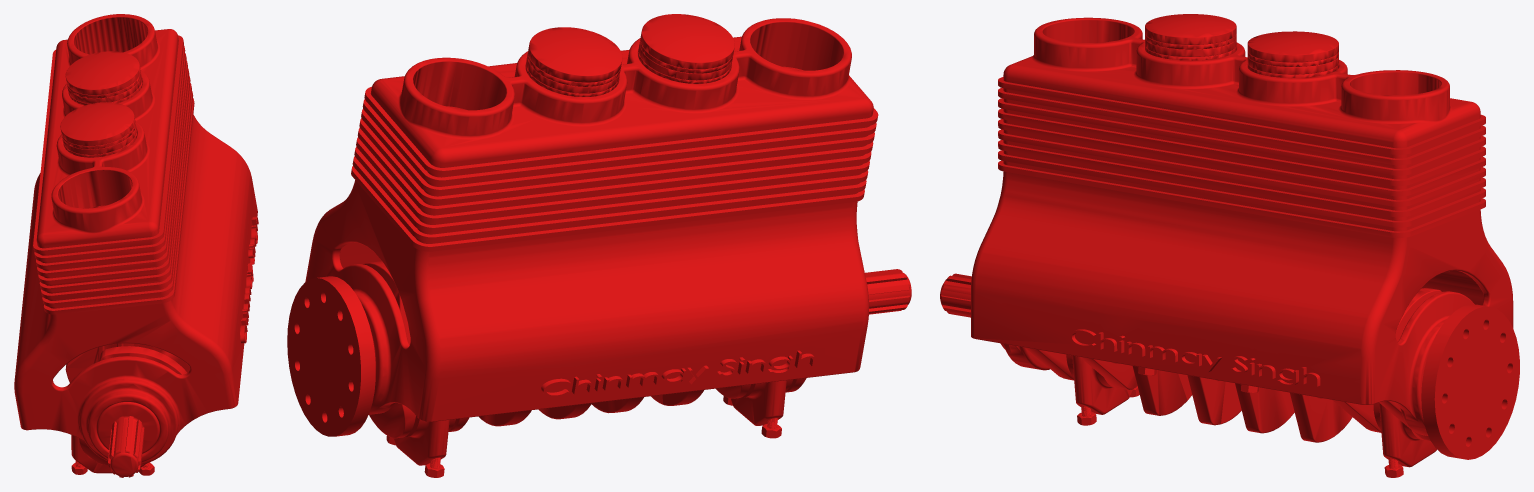
Rendered from engine4.glb.
The picture shows the model from 3 angles, left to right: view 1: azimuth 30°, elevation 25°; view 2: azimuth 150°, elevation 25°; view 3: azimuth 270°, elevation 25°; orthographic projection. The views are drawn at different scales.
Parts seen in each view (by area): view 1: Object_2; view 2: Object_2; view 3: Object_2.
Part boxes in pixels (bbox=[...]): Object_2: bbox=[14, 14, 258, 477]; Object_2: bbox=[287, 14, 911, 477]; Object_2: bbox=[940, 14, 1519, 477].
Size of the model in its own units: 449 by 423 by 539.
